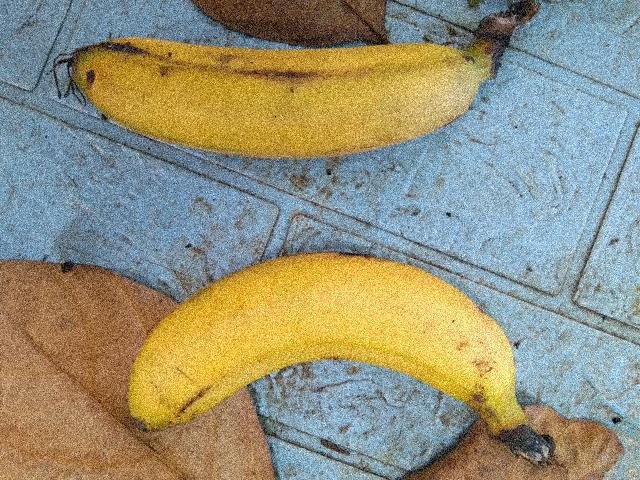freshripe: (124, 232, 527, 479)
ripe: (62, 5, 550, 182)
